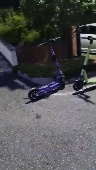beam: (27, 36, 68, 101)
gcooter: (72, 35, 96, 92)
